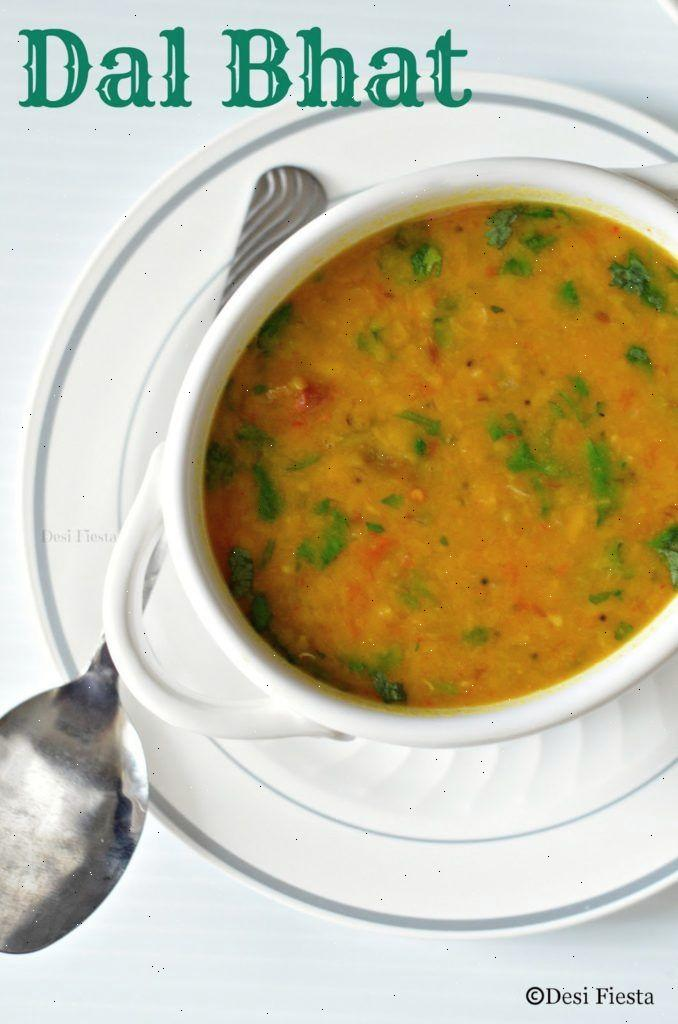daal: (213, 218, 678, 717)
